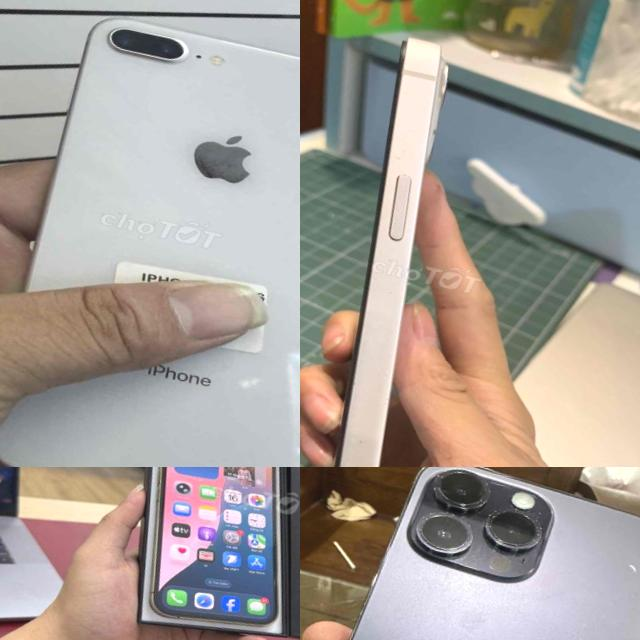gen_12_13: (300, 31, 487, 467), (122, 467, 300, 640)
gen_14: (300, 467, 640, 640)
gen_7_8: (0, 0, 300, 467)
scratch: (404, 467, 557, 586), (621, 560, 640, 585)
